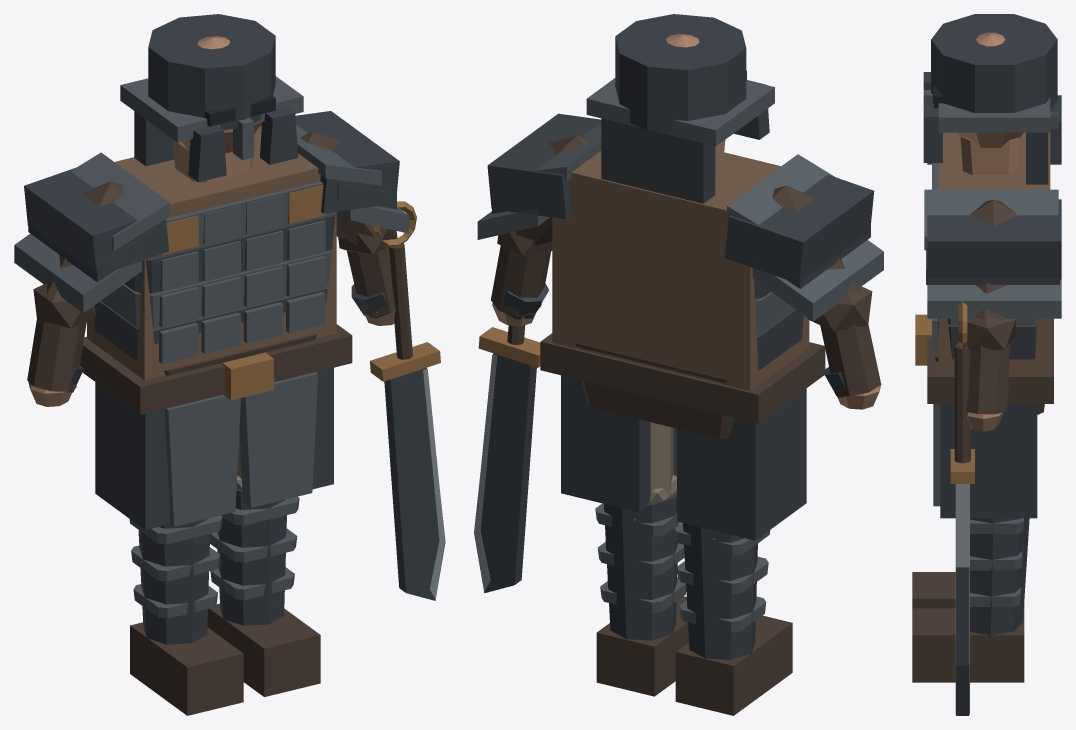
File: chr_f1_heavy_infantry_pixel_v003.glb
The picture shows the model from 3 angles, left to right: view 1: azimuth 30°, elevation 25°; view 2: azimuth 150°, elevation 25°; view 3: azimuth 270°, elevation 25°; orthographic projection. The views are drawn at different scales.
Parts seen in each view (by area): view 1: V002_CHR_F1_HeavyInfantry_Torso, V002_CHR_F1_HeavyInfantry_HelmetBowl, V002_Detail_HeavyDao_Blade, V002_Detail_ThighGuardFace_R, V002_Detail_ThighGuardFace_L, V002_CHR_F1_HeavyInfantry_ThighGuard_-1, V002_CHR_F1_HeavyInfantry_Belt, V002_CHR_F1_HeavyInfantry_Boot_-1, V002_CHR_F1_HeavyInfantry_Pauldron_-1, V002_CHR_F1_HeavyInfantry_Boot_1, V002_Detail_Greave_L, V002_Detail_Greave_R (+52 smaller); view 2: V002_CHR_F1_HeavyInfantry_Torso, V002_CHR_F1_HeavyInfantry_ThighGuard_-1, V002_CHR_F1_HeavyInfantry_HelmetBowl, V002_Detail_HeavyDao_Blade, V002_CHR_F1_HeavyInfantry_Belt, V002_CHR_F1_HeavyInfantry_Pauldron_-1, V002_CHR_F1_HeavyInfantry_ThighGuard_1, V002_Detail_Greave_R, V002_Detail_Greave_L, V002_CHR_F1_HeavyInfantry_NeckGuard, V002_CHR_F1_HeavyInfantry_Boot_-1, V002_CHR_F1_HeavyInfantry_Pauldron_1 (+24 smaller); view 3: V002_CHR_F1_HeavyInfantry_HelmetBowl, V002_CHR_F1_HeavyInfantry_ThighGuard_1, V002_CHR_F1_HeavyInfantry_Pauldron_1, V002_CHR_F1_HeavyInfantry_Boot_1, V002_CHR_F1_HeavyInfantry_Torso, V002_Detail_Greave_R, V002_Detail_ShoulderLame_R_03, V002_Detail_ShoulderLame_R_01, V002_CHR_F1_HeavyInfantry_Belt, V002_CHR_F1_HeavyInfantry_HelmetBrim, V002_CHR_F1_HeavyInfantry_Forearm_1, V002_Detail_HeavyDao_Blade (+21 smaller).
Boxes of the visible parts, <box> form: V002_CHR_F1_HeavyInfantry_Torso: <box>87,126,336,380</box>; V002_CHR_F1_HeavyInfantry_HelmetBowl: <box>148,14,275,129</box>; V002_Detail_HeavyDao_Blade: <box>384,367,445,600</box>; V002_Detail_ThighGuardFace_R: <box>239,372,317,507</box>; V002_Detail_ThighGuardFace_L: <box>165,395,240,526</box>; V002_CHR_F1_HeavyInfantry_ThighGuard_-1: <box>95,382,170,530</box>; V002_CHR_F1_HeavyInfantry_Belt: <box>80,324,352,414</box>; V002_CHR_F1_HeavyInfantry_Boot_-1: <box>130,622,243,715</box>; V002_CHR_F1_HeavyInfantry_Pauldron_-1: <box>24,167,169,274</box>; V002_CHR_F1_HeavyInfantry_Boot_1: <box>207,603,320,696</box>; V002_Detail_Greave_L: <box>138,518,209,644</box>; V002_Detail_Greave_R: <box>217,488,286,625</box>; V002_CHR_F1_HeavyInfantry_Torso: <box>552,151,809,390</box>; V002_CHR_F1_HeavyInfantry_ThighGuard_-1: <box>677,388,806,540</box>; V002_CHR_F1_HeavyInfantry_HelmetBowl: <box>615,14,746,132</box>; V002_Detail_HeavyDao_Blade: <box>474,353,536,593</box>; V002_CHR_F1_HeavyInfantry_Belt: <box>540,333,825,423</box>; V002_CHR_F1_HeavyInfantry_Pauldron_-1: <box>724,174,874,283</box>; V002_CHR_F1_HeavyInfantry_ThighGuard_1: <box>561,375,676,512</box>; V002_Detail_Greave_R: <box>604,490,678,640</box>; V002_Detail_Greave_L: <box>683,523,757,659</box>; V002_CHR_F1_HeavyInfantry_NeckGuard: <box>601,118,715,203</box>; V002_CHR_F1_HeavyInfantry_Boot_-1: <box>675,615,792,715</box>; V002_CHR_F1_HeavyInfantry_Pauldron_1: <box>487,113,601,219</box>; V002_CHR_F1_HeavyInfantry_HelmetBowl: <box>931,14,1057,112</box>; V002_CHR_F1_HeavyInfantry_ThighGuard_1: <box>940,404,1037,518</box>; V002_CHR_F1_HeavyInfantry_Pauldron_1: <box>927,199,1061,279</box>; V002_CHR_F1_HeavyInfantry_Boot_1: <box>912,608,1024,682</box>; V002_CHR_F1_HeavyInfantry_Torso: <box>938,132,1050,372</box>; V002_Detail_Greave_R: <box>970,518,1029,638</box>; V002_Detail_ShoulderLame_R_03: <box>927,279,1061,318</box>; V002_Detail_ShoulderLame_R_01: <box>924,189,1058,250</box>; V002_CHR_F1_HeavyInfantry_Belt: <box>927,318,1053,403</box>; V002_CHR_F1_HeavyInfantry_HelmetBrim: <box>938,98,1050,132</box>; V002_CHR_F1_HeavyInfantry_Forearm_1: <box>966,344,1009,414</box>; V002_Detail_HeavyDao_Blade: <box>956,567,969,715</box>.
Bounding box in the file's own units: 1.21 × 1.82 × 0.4.
